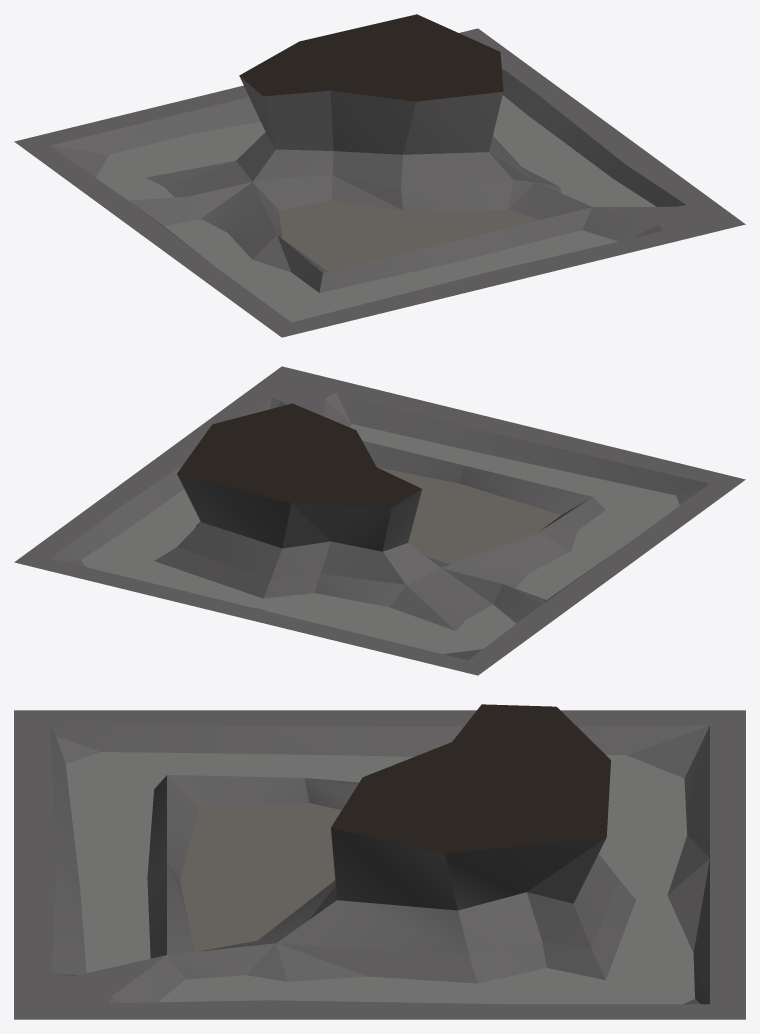
File: SM_Env_Ceiling_Stone_Flat_04.FBX
The picture shows the model from 3 angles, top to bottom: view 1: azimuth 30°, elevation 25°; view 2: azimuth 150°, elevation 25°; view 3: azimuth 270°, elevation 25°; orthographic projection. The views are drawn at different scales.
Visible parts, largest first — view 1: SM_Env_Ceiling_Stone_Flat_04; view 2: SM_Env_Ceiling_Stone_Flat_04; view 3: SM_Env_Ceiling_Stone_Flat_04.
Boxes of the visible parts, x1=… form: SM_Env_Ceiling_Stone_Flat_04: x1=14, y1=14, x2=745, y2=337; SM_Env_Ceiling_Stone_Flat_04: x1=14, y1=366, x2=745, y2=675; SM_Env_Ceiling_Stone_Flat_04: x1=14, y1=704, x2=745, y2=1019.
Size of what is drawn, in the model's own units: 500 by 500 by 96.01.
